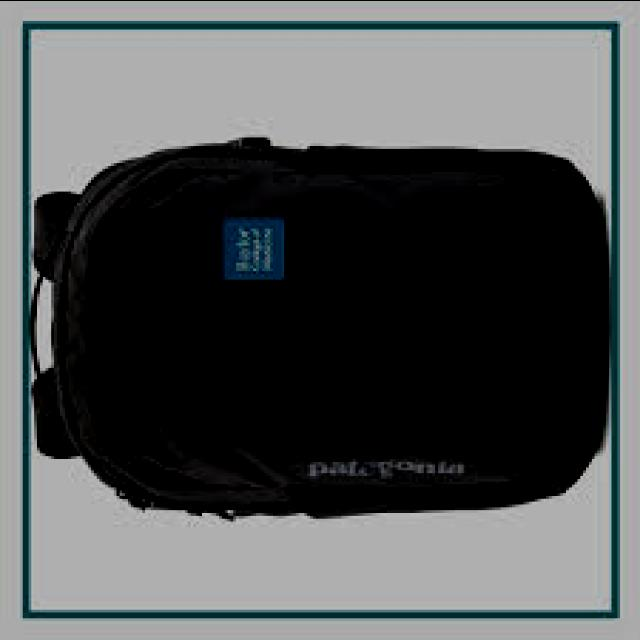backpack: (29, 138, 607, 522)
